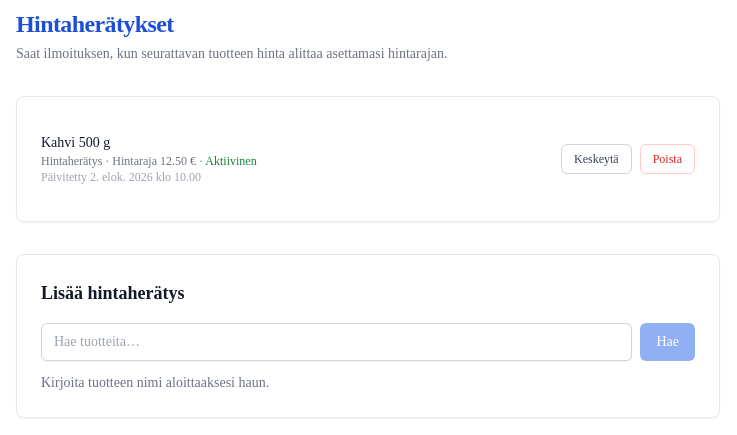
AlertsPage › pauses an active alert via PATCH and reflects the new status
What coordinates should you click on to do the following:
click the button "Keskeytä"
I would click on:
 (596, 159)
Its box is [561,144,632,174].
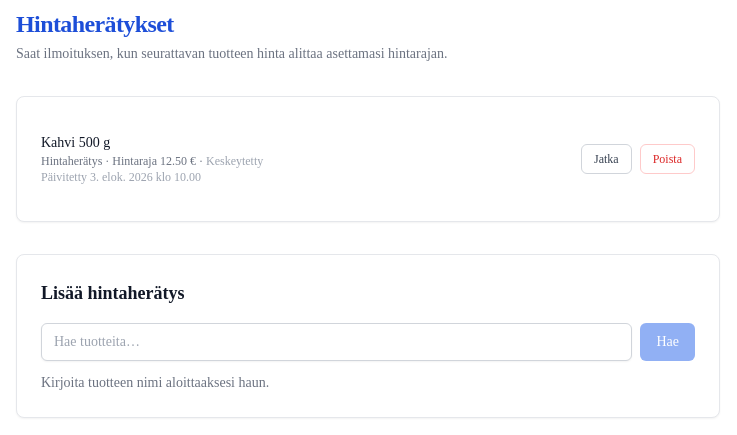
Check: the button "Jatka" is shown, box [581,144,632,174]
